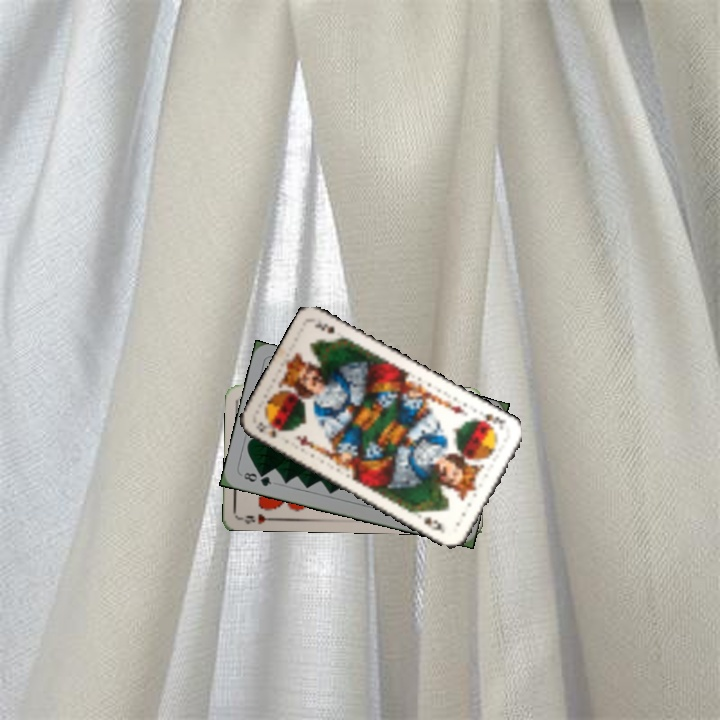G8: (239, 468, 274, 489)
H9: (237, 510, 278, 526)
SK: (472, 409, 509, 432), (252, 418, 284, 442)
